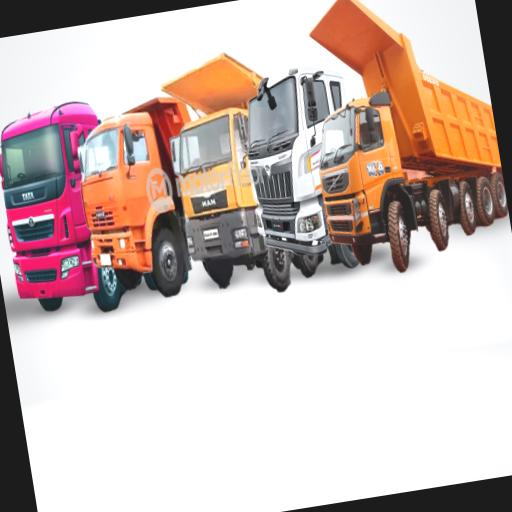truck: (0, 0, 508, 310)
